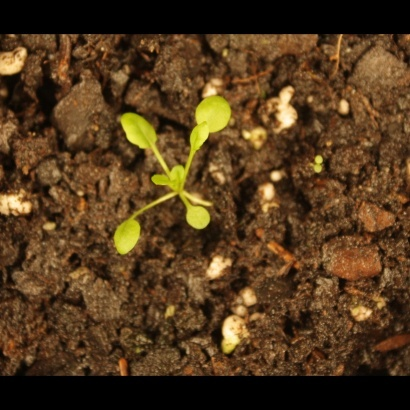leaf: (113, 111, 164, 155), (192, 89, 235, 136), (104, 216, 146, 256), (182, 203, 216, 232), (188, 120, 212, 154), (148, 168, 171, 191), (169, 164, 192, 187)
